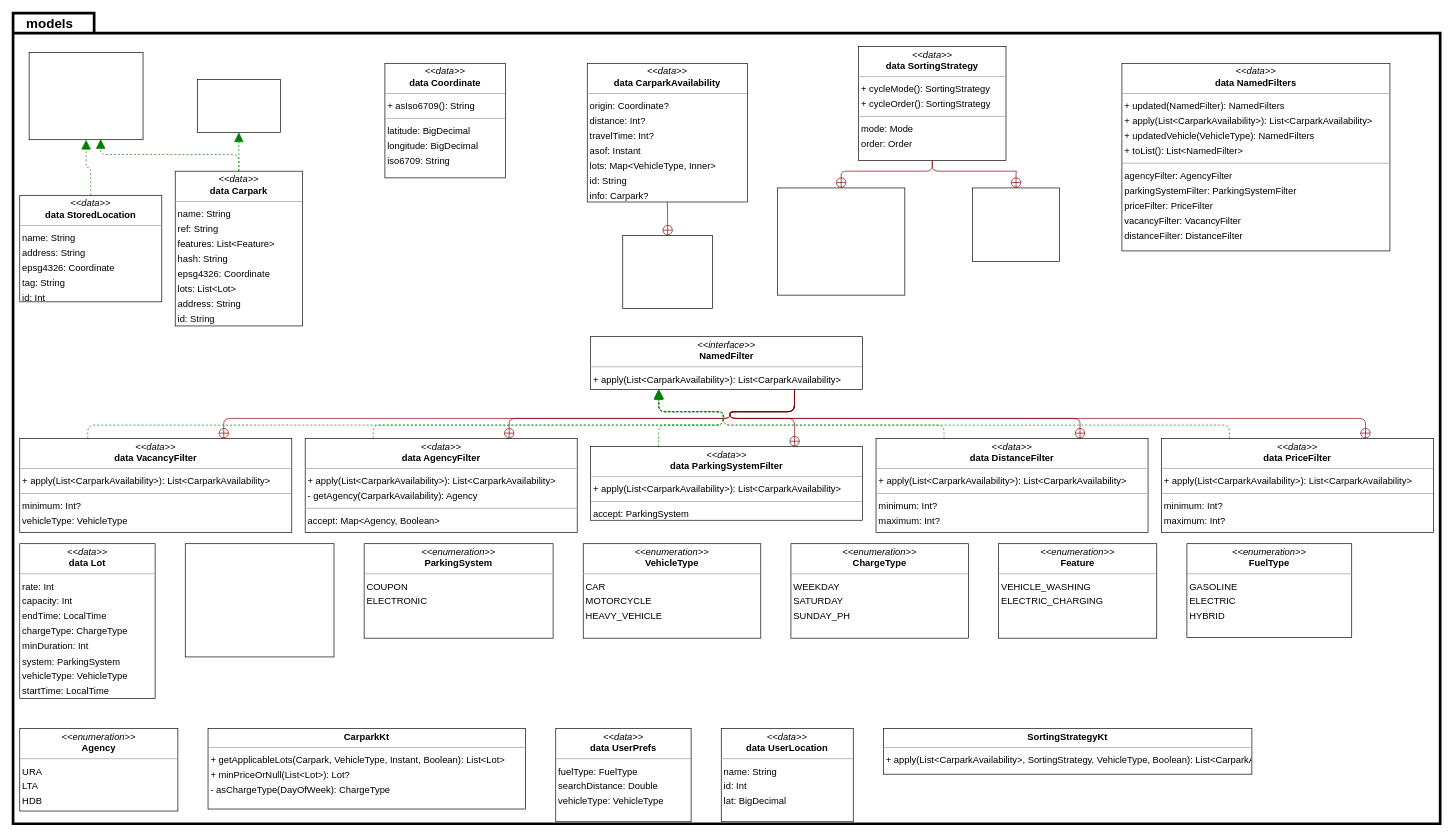
This 1453x836 diagram has some shape labels left out. The centre of each missing label's shape, as x and y in pixels:
<<data>> data Inner predicted: Int current: Int: (667,272)
<<data>> data VisitedLocations name: String lat: Double long: Double id: Int: (259,600)
<<enumeration>> Mode DISTANCE PRICE AVAILABILITY_CURRENT TRAVEL_TIME: (841,241)
<<enumeration>> Order ASCENDING DESCENDING: (1016,224)
<<interface>> Hashable hash: String: (238,105)
<<interface>> Location name: String address: String epsg4326: Coordinate: (85,96)
